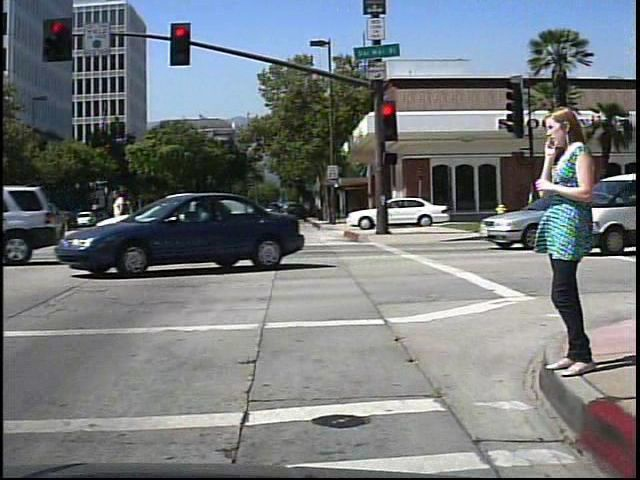person: (533, 97, 598, 387)
